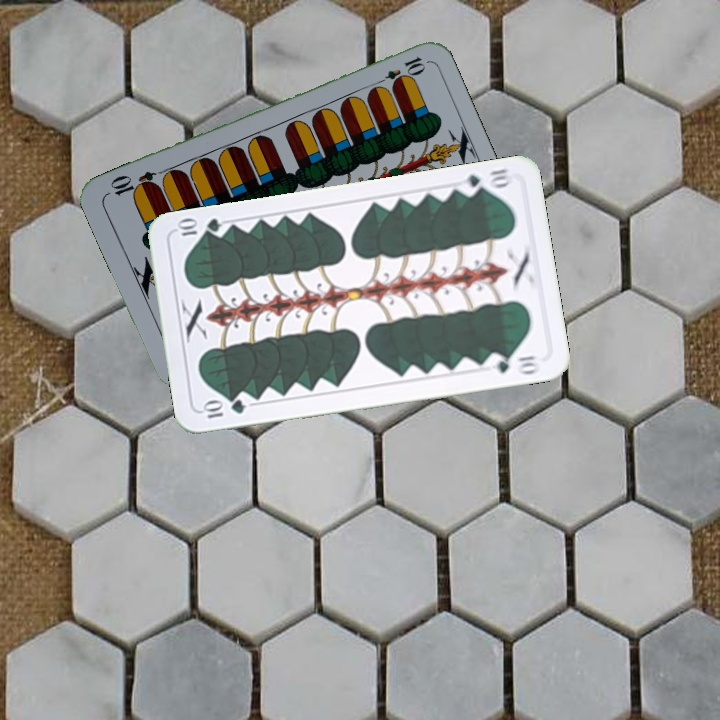E10: (371, 52, 428, 90)
G10: (457, 164, 514, 198), (199, 396, 248, 421)
